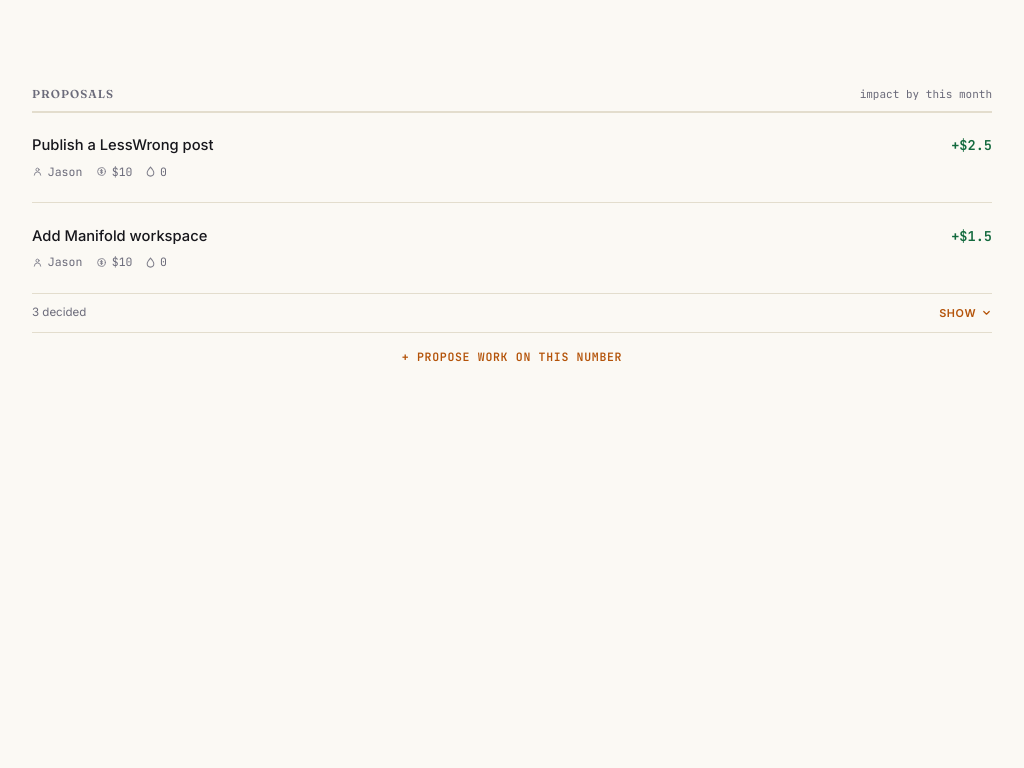
Test: the board opens on the live ballot › pressing it reveals them, newest decision first, and it says Hide
This screenshot has width=1024, height=768.
Click the text "Show" at (966, 313), box [939,305,992,321]
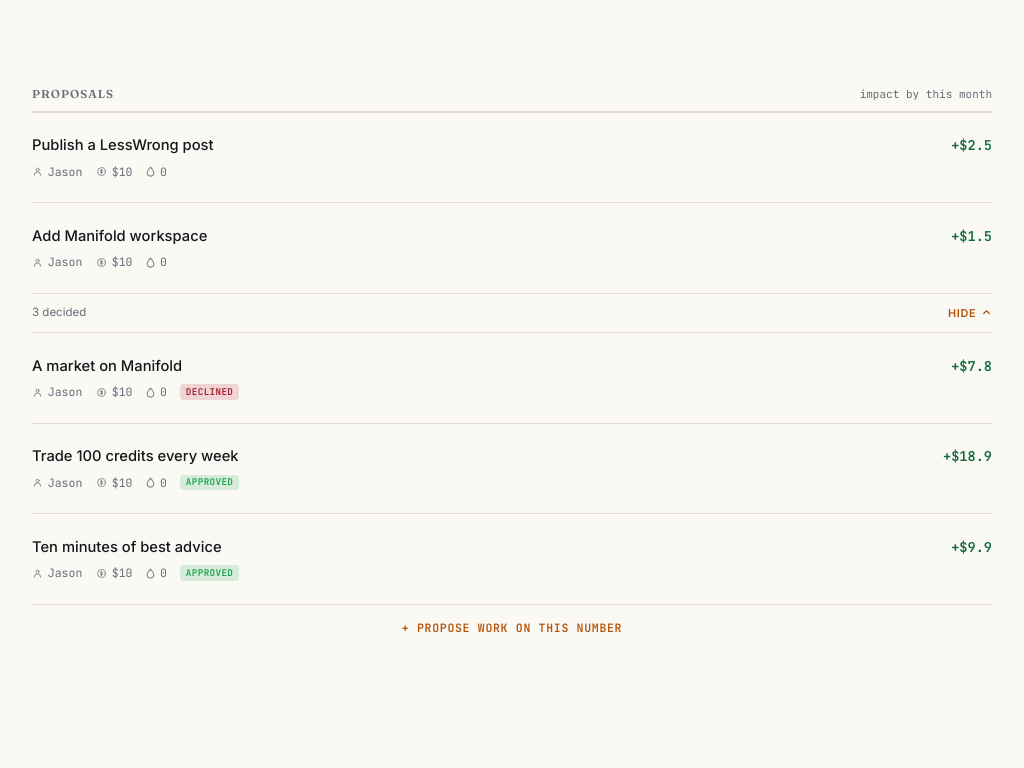
expect the text "Trade 100 credits every week" is shown: met, box [32,445,238,468]
expect the text "Hide" is shown: met, box [948,305,992,321]
expect the button "Show" is gone: met
